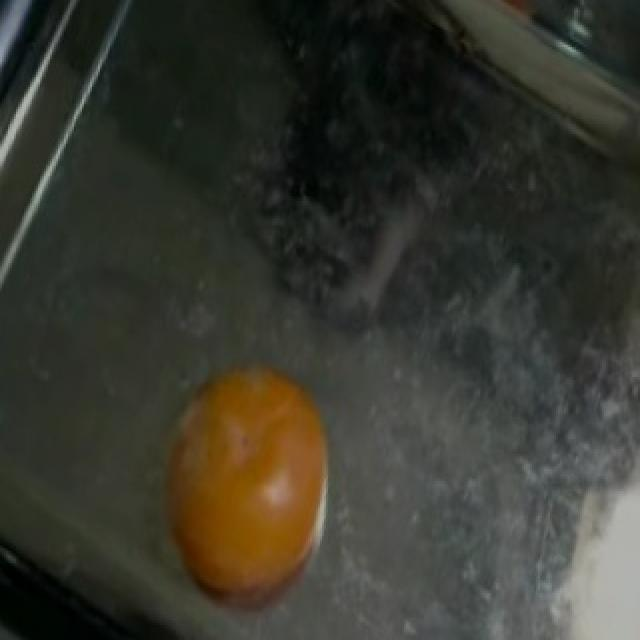Fruit: (138, 340, 352, 635)
